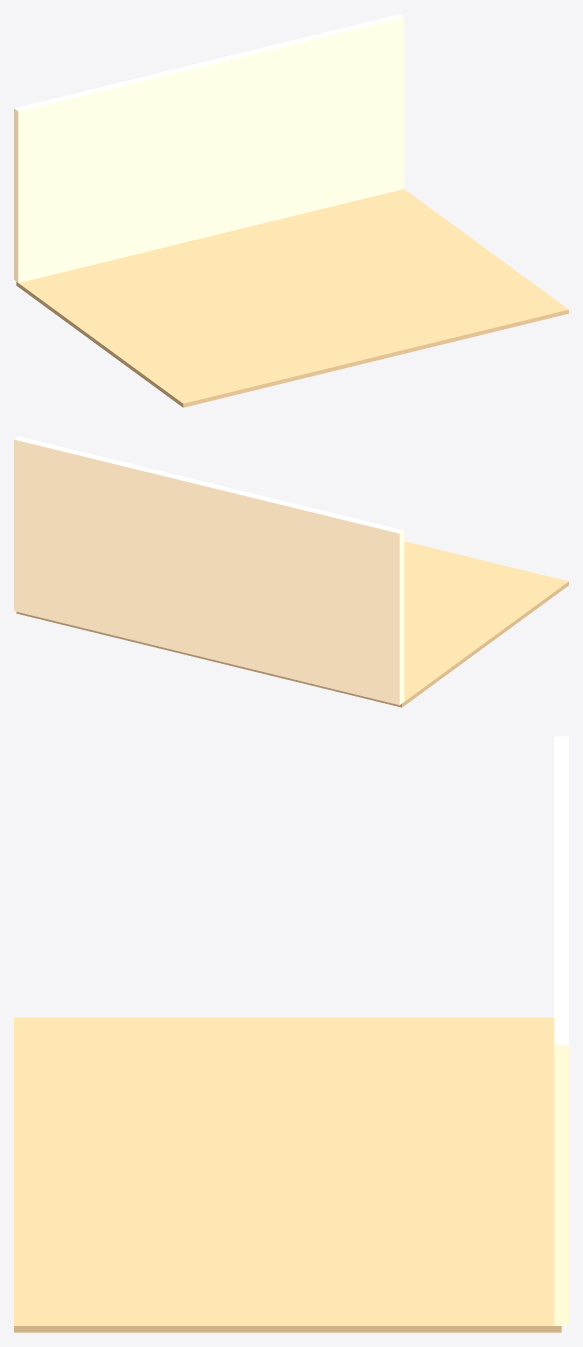
File: room-shell-lod2.glb
3 renders of one model, top to bottom at view 1: azimuth 30°, elevation 25°; view 2: azimuth 150°, elevation 25°; view 3: azimuth 270°, elevation 25°, orthographic. The views are drawn at different scales.
Visible parts, largest first — view 1: MESH_BackWall, MESH_Floor; view 2: MESH_BackWall, MESH_Floor; view 3: MESH_Floor, MESH_BackWall.
Part boxes in pixels (left/top/right/bottom): MESH_BackWall: left=14, top=14, right=404, bottom=282; MESH_Floor: left=16, top=189, right=568, bottom=407; MESH_BackWall: left=14, top=436, right=404, bottom=705; MESH_Floor: left=16, top=541, right=568, bottom=707; MESH_Floor: left=14, top=1017, right=561, bottom=1332; MESH_BackWall: left=554, top=736, right=568, bottom=1325.
Size of the model in its own units: 8 by 3.48 by 6.08.
